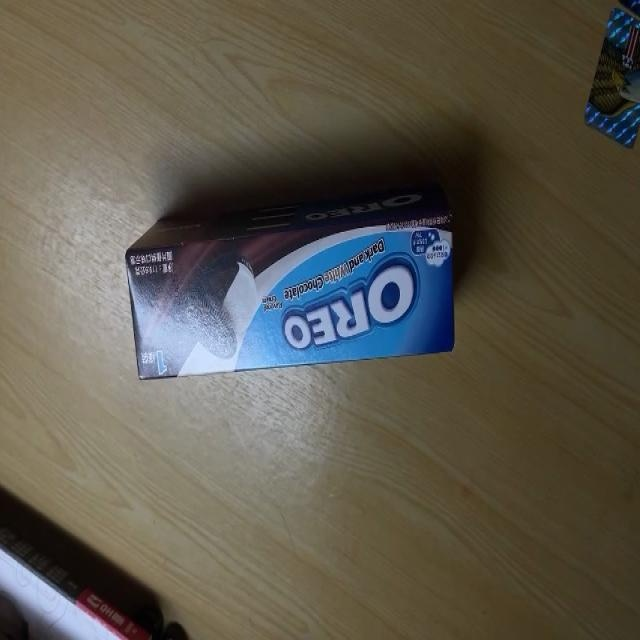Oreo: (123, 200, 457, 381)
